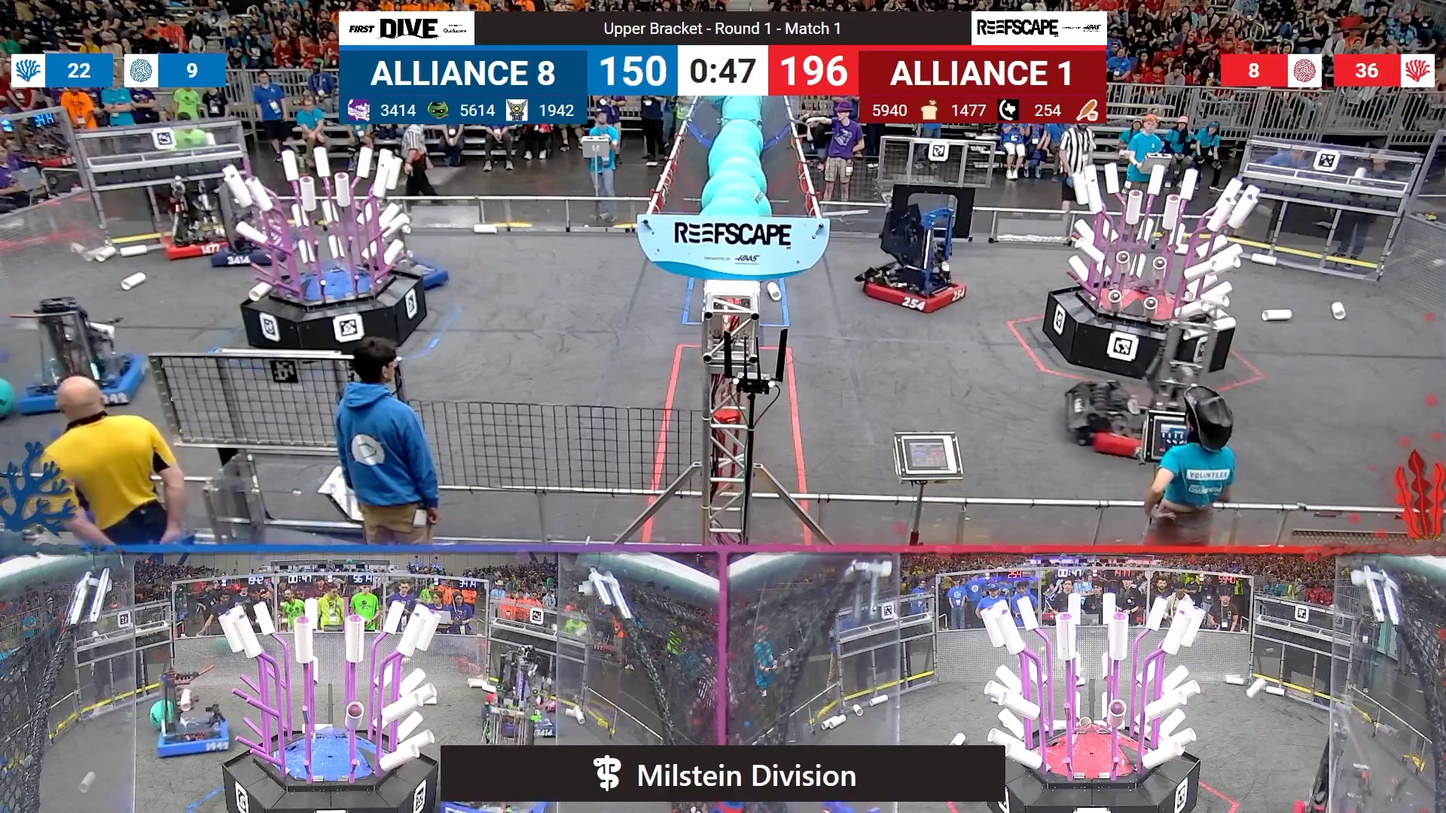bumpers: (1070, 393, 1204, 466), (20, 350, 151, 407), (854, 264, 977, 318), (149, 706, 240, 764), (478, 701, 559, 741), (204, 239, 299, 272), (160, 228, 243, 263), (378, 254, 456, 289)
